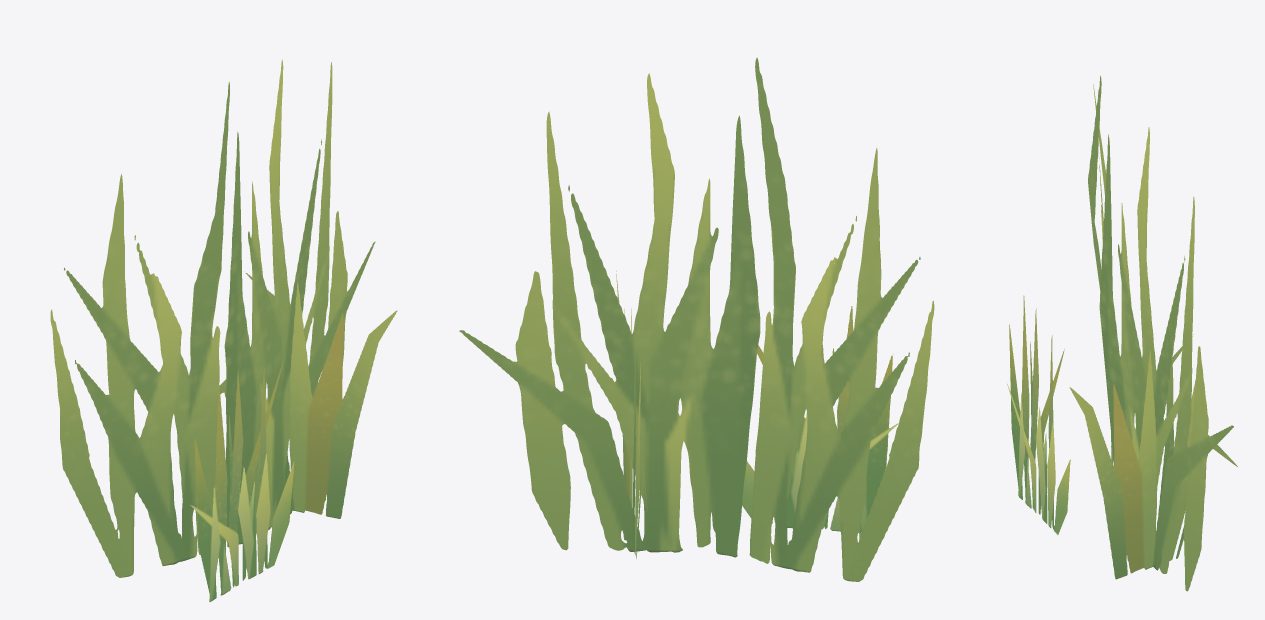
File: grass_cluster_4.fbx
The picture shows the model from 3 angles, left to right: view 1: azimuth 30°, elevation 25°; view 2: azimuth 150°, elevation 25°; view 3: azimuth 270°, elevation 25°; orthographic projection. The views are drawn at different scales.
Visible parts, largest first — view 1: grass; view 2: grass; view 3: grass.
Part boxes in pixels (<box>): grass: <box>50,59,397,601</box>; grass: <box>459,57,934,581</box>; grass: <box>1006,75,1237,591</box>.
Bounding box in the file's own units: 155 × 180 × 80.41.
